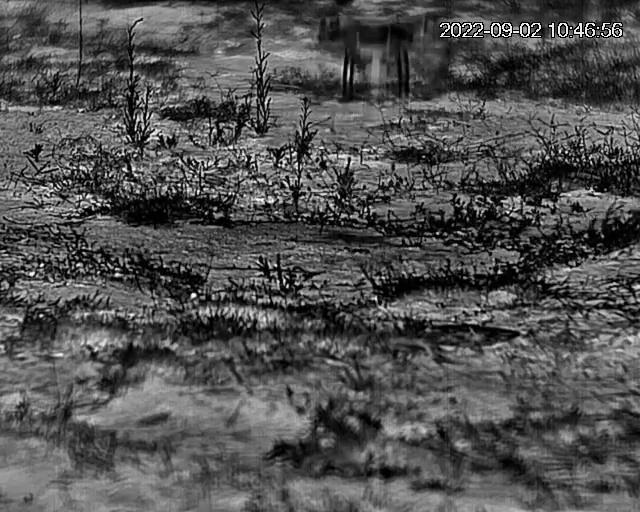DJI-Phantom: (318, 14, 431, 102)
